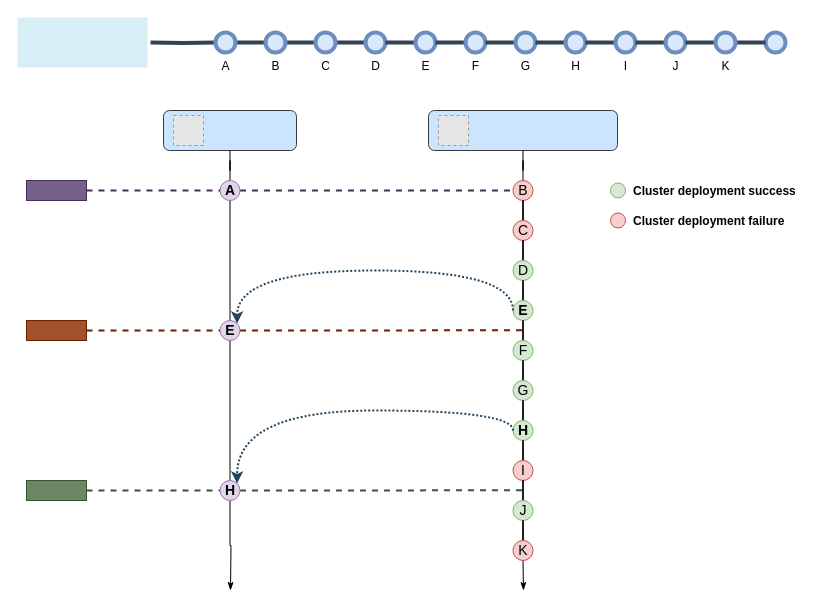
The diagram is 838 pixels wide and 616 high, and some of its shapes have lost their labels. Grey dashed boxes stand in for pictures. Here are the shapes that lost their labels. From the top down, the box of each, then its label:
(17, 17, 147, 67): kubespray master branch
(162, 110, 296, 150): Release CI
(428, 110, 618, 150): Deploy Validation CI
(26, 180, 86, 200): v0.0.1
(26, 320, 86, 340): v0.0.2
(26, 480, 86, 500): v0.0.3
